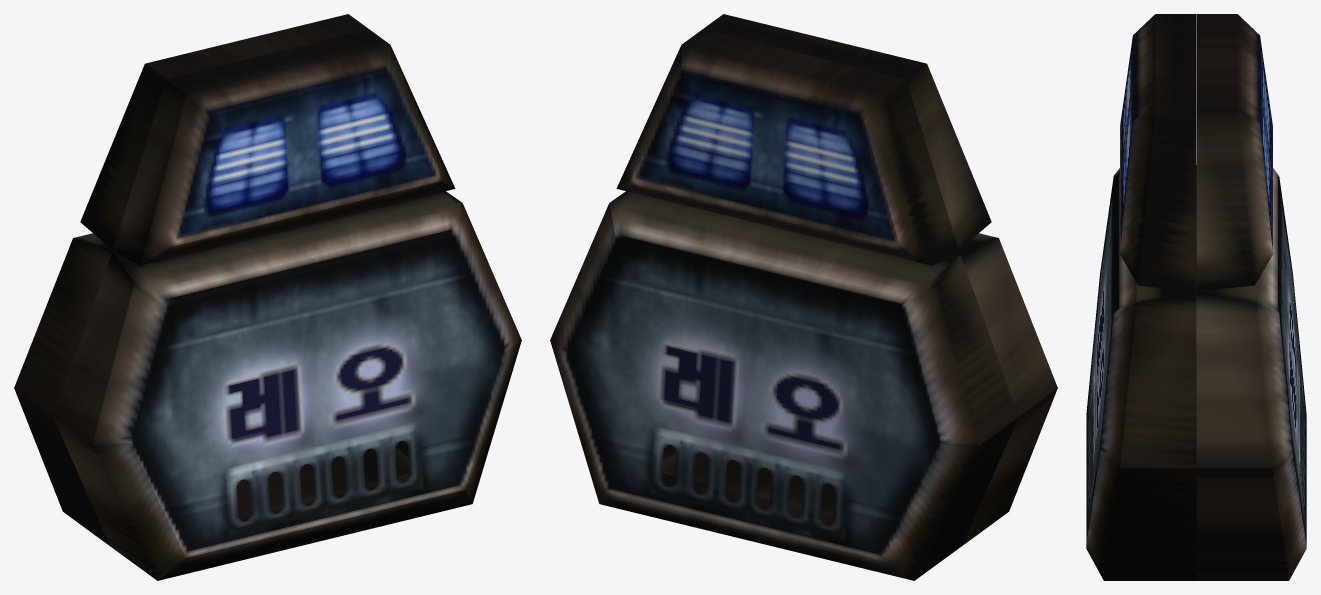
The model's file is datan_common_7843178e.obj.
3 views of the same model, side by side, from view 1: azimuth 30°, elevation 25°; view 2: azimuth 150°, elevation 25°; view 3: azimuth 270°, elevation 25° (orthographic). The views are drawn at different scales.
Parts seen in each view (by area): view 1: datan_common_7843178e_mesh00, datan_common_7843178e_mesh02, datan_common_7843178e_mesh01; view 2: datan_common_7843178e_mesh01, datan_common_7843178e_mesh02, datan_common_7843178e_mesh00; view 3: datan_common_7843178e_mesh02, datan_common_7843178e_mesh00, datan_common_7843178e_mesh01.
Part boxes in pixels (x1,y1,x2,y2): datan_common_7843178e_mesh00: (53, 191, 521, 580); datan_common_7843178e_mesh02: (80, 14, 455, 265); datan_common_7843178e_mesh01: (14, 233, 409, 545); datan_common_7843178e_mesh01: (550, 191, 1018, 580); datan_common_7843178e_mesh02: (616, 14, 991, 265); datan_common_7843178e_mesh00: (662, 233, 1057, 545); datan_common_7843178e_mesh02: (1120, 14, 1272, 290); datan_common_7843178e_mesh00: (1086, 168, 1196, 580); datan_common_7843178e_mesh01: (1196, 165, 1306, 580).
Size of the model in its own units: 11.96 by 12.07 by 5.44.
1 material, 1 textured.
